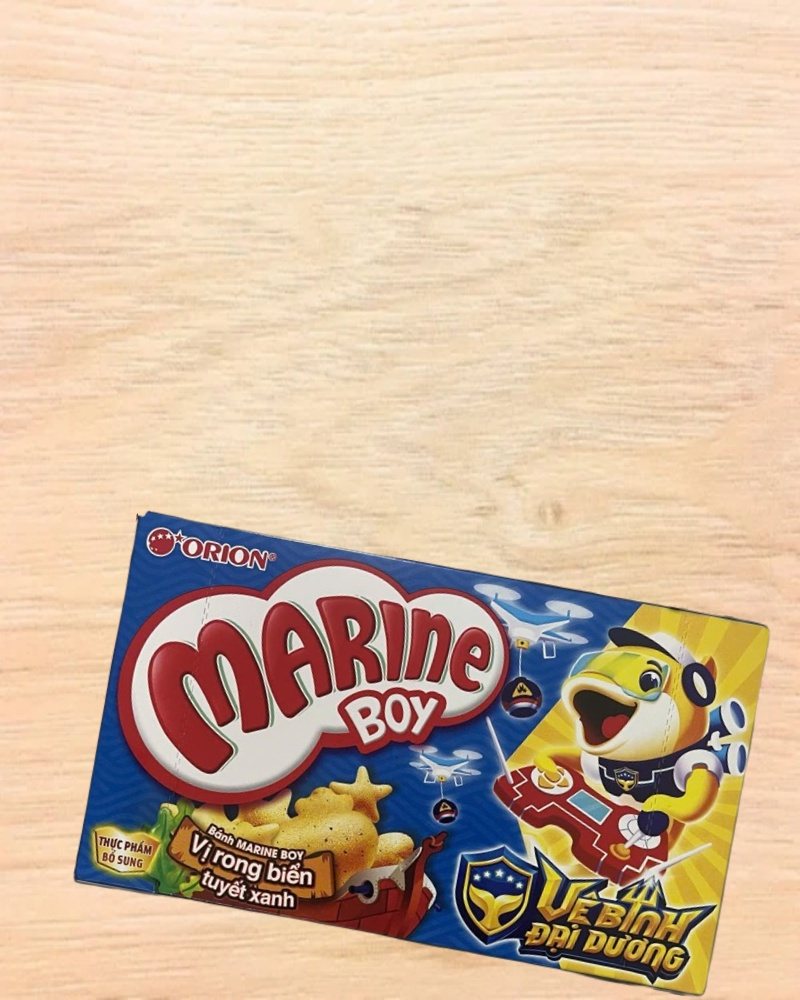Marine: (74, 510, 774, 999)
